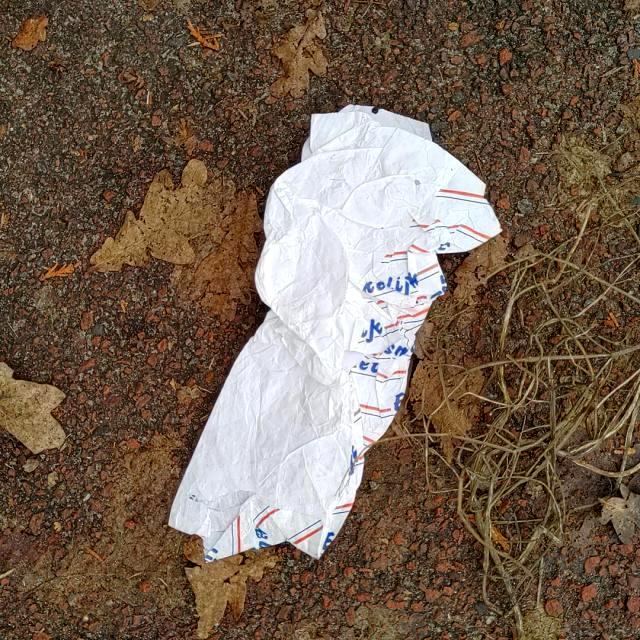Paper: (163, 101, 502, 565)
